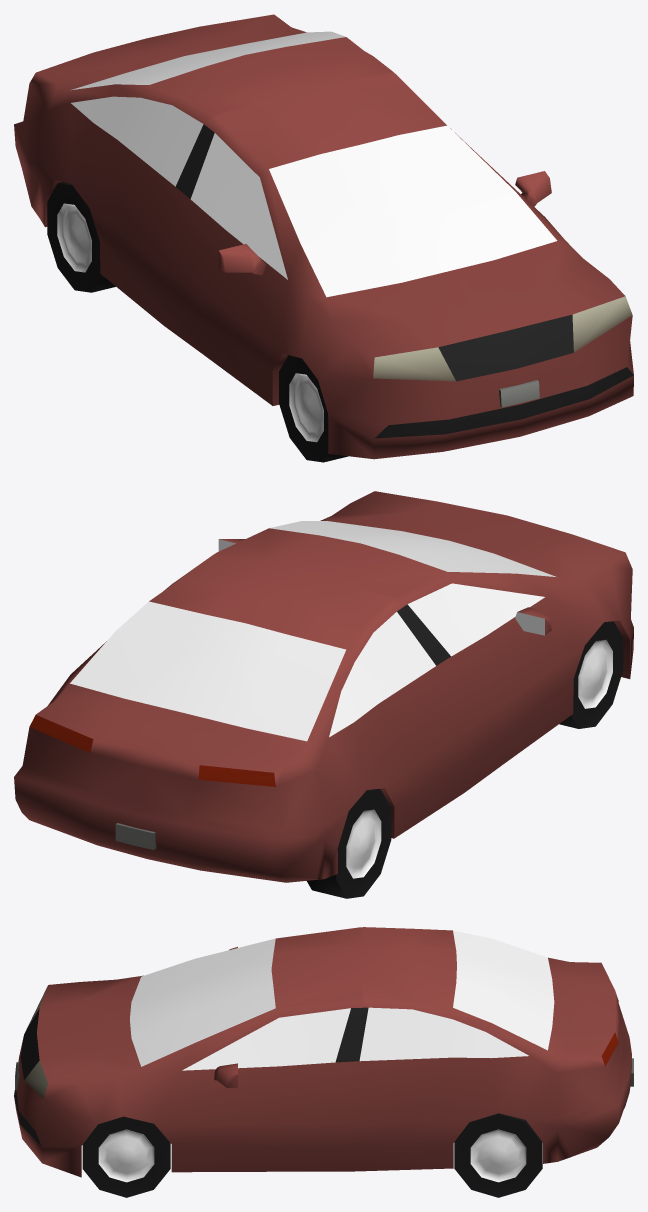
File: vehicles-cars-sedan_v1.glb
The picture shows the model from 3 angles, top to bottom: view 1: azimuth 30°, elevation 25°; view 2: azimuth 150°, elevation 25°; view 3: azimuth 270°, elevation 25°; orthographic projection. The views are drawn at different scales.
Parts seen in each view (by area): view 1: Sedan_v1; view 2: Sedan_v1; view 3: Sedan_v1.
Part boxes in pixels (x1=…): Sedan_v1: x1=14, y1=14, x2=633, y2=462; Sedan_v1: x1=14, y1=491, x2=633, y2=898; Sedan_v1: x1=14, y1=927, x2=633, y2=1197.
Size of the model in its own units: 2.24 by 1.49 by 4.6.
